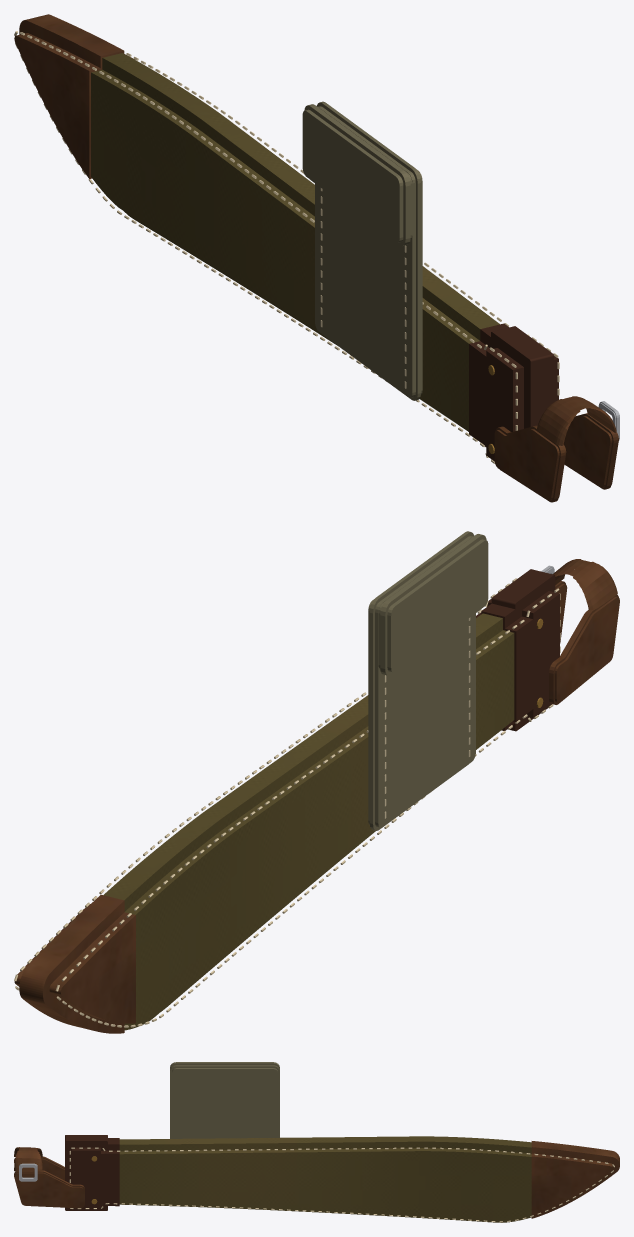
File: bainha_lona_facao.glb
3 views of the same model, one above another, from view 1: azimuth 30°, elevation 25°; view 2: azimuth 150°, elevation 25°; view 3: azimuth 270°, elevation 25° (orthographic). The views are drawn at different scales.
Visible parts, largest first — view 1: bainha_lona_facao_lona, bainha_lona_facao_lona_escura, bainha_lona_facao_couro, bainha_lona_facao_couro_escuro, bainha_lona_facao_costura; view 2: bainha_lona_facao_lona, bainha_lona_facao_lona_escura, bainha_lona_facao_couro, bainha_lona_facao_couro_escuro, bainha_lona_facao_costura; view 3: bainha_lona_facao_lona, bainha_lona_facao_lona_escura, bainha_lona_facao_couro, bainha_lona_facao_couro_escuro, bainha_lona_facao_costura, bainha_lona_facao_aco_inox.
Part boxes in pixels (bbox=[...]): bainha_lona_facao_lona: bbox=[91, 53, 499, 431]; bainha_lona_facao_lona_escura: bbox=[302, 101, 422, 400]; bainha_lona_facao_couro: bbox=[14, 14, 618, 502]; bainha_lona_facao_couro_escuro: bbox=[469, 323, 558, 461]; bainha_lona_facao_costura: bbox=[14, 31, 559, 463]; bainha_lona_facao_lona: bbox=[103, 613, 514, 1030]; bainha_lona_facao_lona_escura: bbox=[368, 531, 488, 830]; bainha_lona_facao_couro: bbox=[14, 559, 619, 1033]; bainha_lona_facao_couro_escuro: bbox=[476, 569, 559, 731]; bainha_lona_facao_costura: bbox=[14, 578, 560, 1027]; bainha_lona_facao_lona: bbox=[119, 1136, 531, 1222]; bainha_lona_facao_lona_escura: bbox=[170, 1062, 279, 1138]; bainha_lona_facao_couro: bbox=[14, 1141, 619, 1218]; bainha_lona_facao_couro_escuro: bbox=[65, 1135, 119, 1210]; bainha_lona_facao_costura: bbox=[69, 1147, 614, 1222]; bainha_lona_facao_aco_inox: bbox=[19, 1163, 37, 1181].
Bounding box in the file's own units: 0.0317 × 0.1035 × 0.3853.
7 materials, 2 textured.
